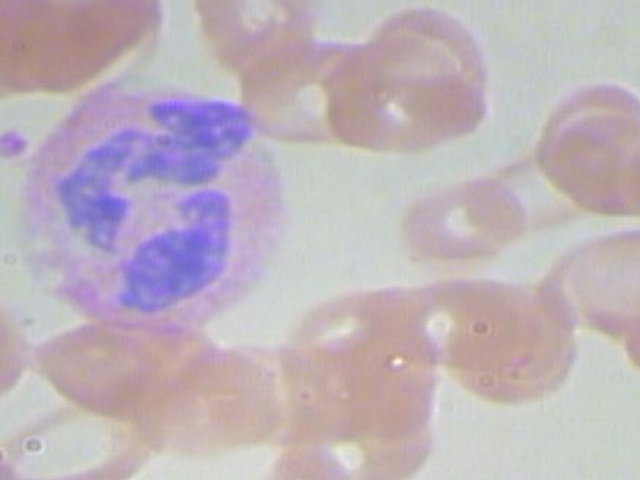Platelets: (0, 119, 38, 172)
RBC: (321, 25, 493, 153), (448, 283, 587, 408), (149, 338, 288, 463), (0, 380, 168, 480), (357, 0, 495, 120), (235, 31, 374, 142), (532, 106, 640, 224), (389, 176, 521, 271), (465, 135, 597, 230), (10, 0, 170, 78), (528, 69, 640, 164), (552, 216, 640, 334), (179, 0, 317, 72), (241, 436, 377, 480), (0, 289, 31, 426), (595, 131, 640, 224)
WBC: (17, 78, 304, 334)
